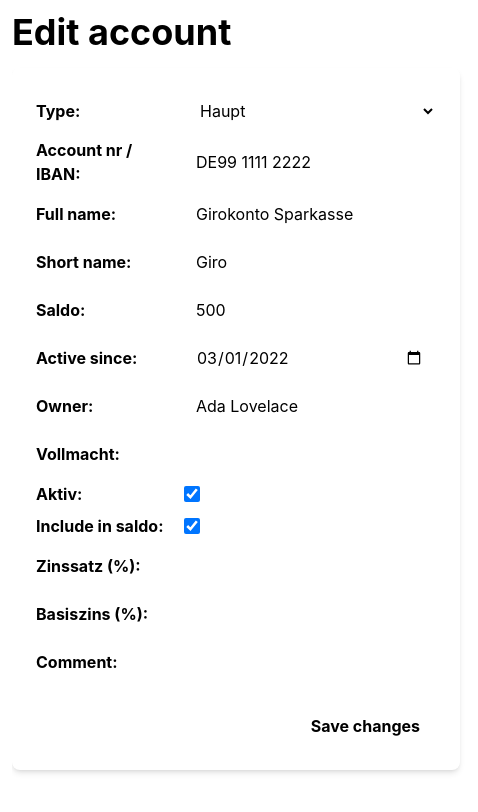
Test: EditAccountPage › missing required field (cleared Full name): shows validation error, stays on page, issues no PUT
Check: the dropdown labelled "Type:" is shown, box x1=184 y1=92 x2=436 y2=130
Clear the field labelled "Full name:": (320, 214) x1=184 y1=194 x2=456 y2=234
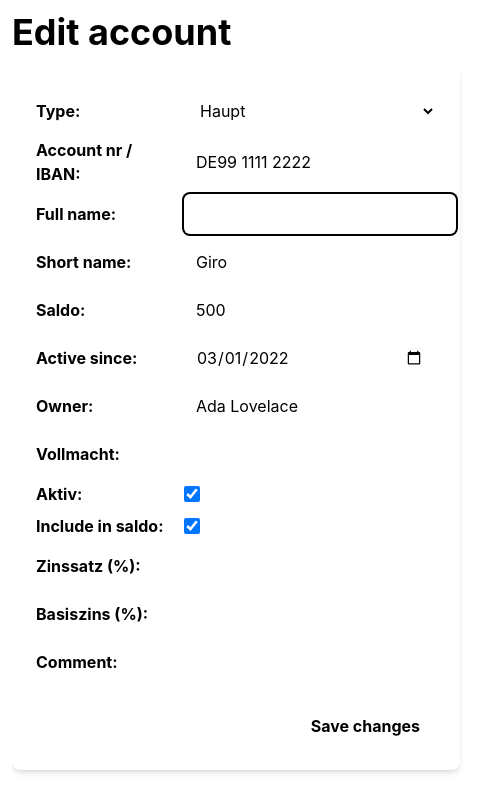
Click the button "Save changes": (365, 726) x1=295 y1=706 x2=436 y2=746
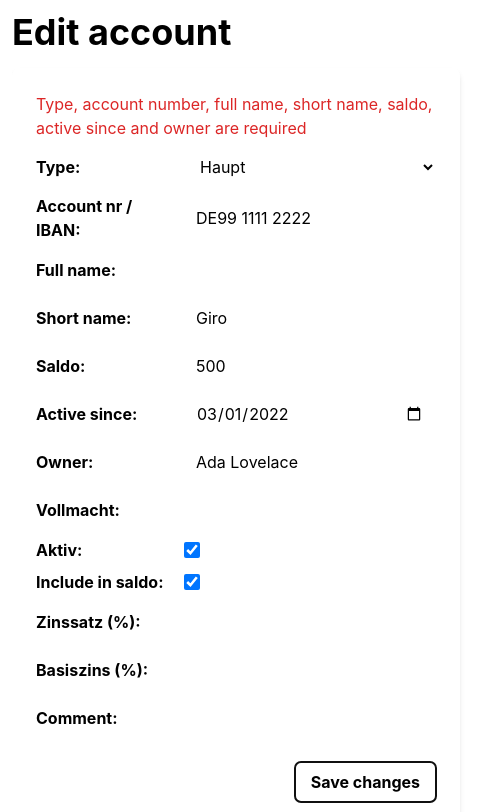
Check: the button "Type, account number, full name, short name, saldo, active since and owner are required" is shown, box x1=36 y1=94 x2=432 y2=138
